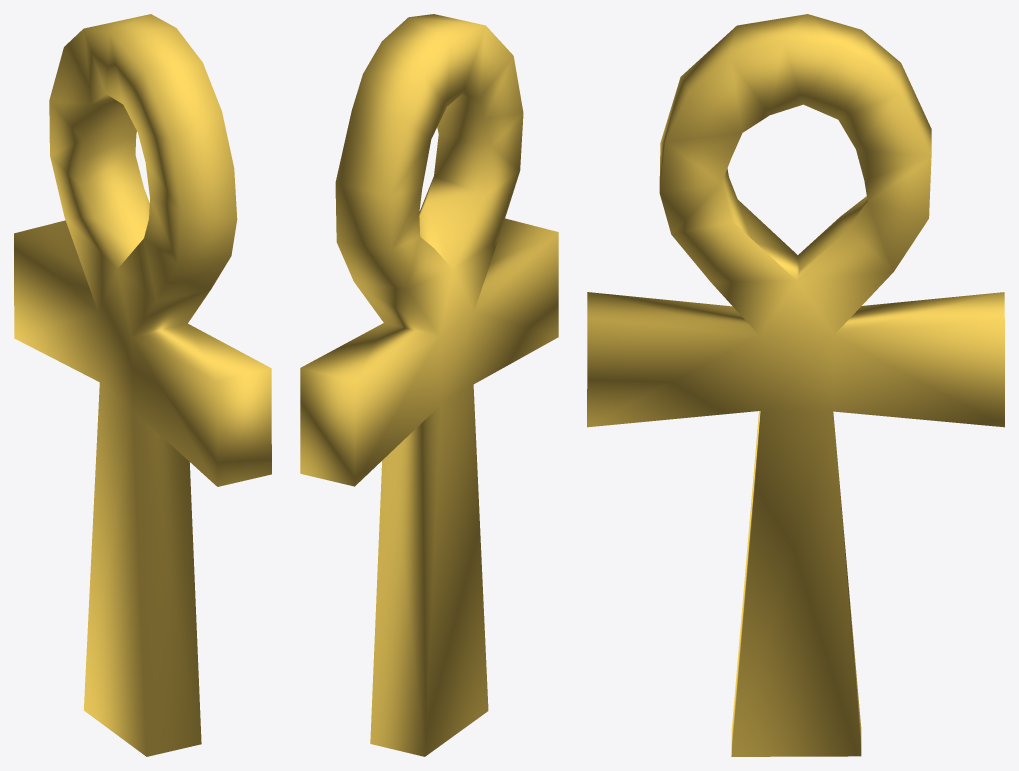
File: Ankh_01.fbx
3 renders of one model, left to right at view 1: azimuth 30°, elevation 25°; view 2: azimuth 150°, elevation 25°; view 3: azimuth 270°, elevation 25°, orthographic. The views are drawn at different scales.
Visible parts, largest first — view 1: Ankh_01; view 2: Ankh_01; view 3: Ankh_01.
Part boxes in pixels (x1=…): Ankh_01: x1=14, y1=14, x2=271, y2=756; Ankh_01: x1=300, y1=14, x2=558, y2=756; Ankh_01: x1=587, y1=14, x2=1004, y2=756.
Bounding box in the file's own units: 3.18 × 38.07 × 20.14.
